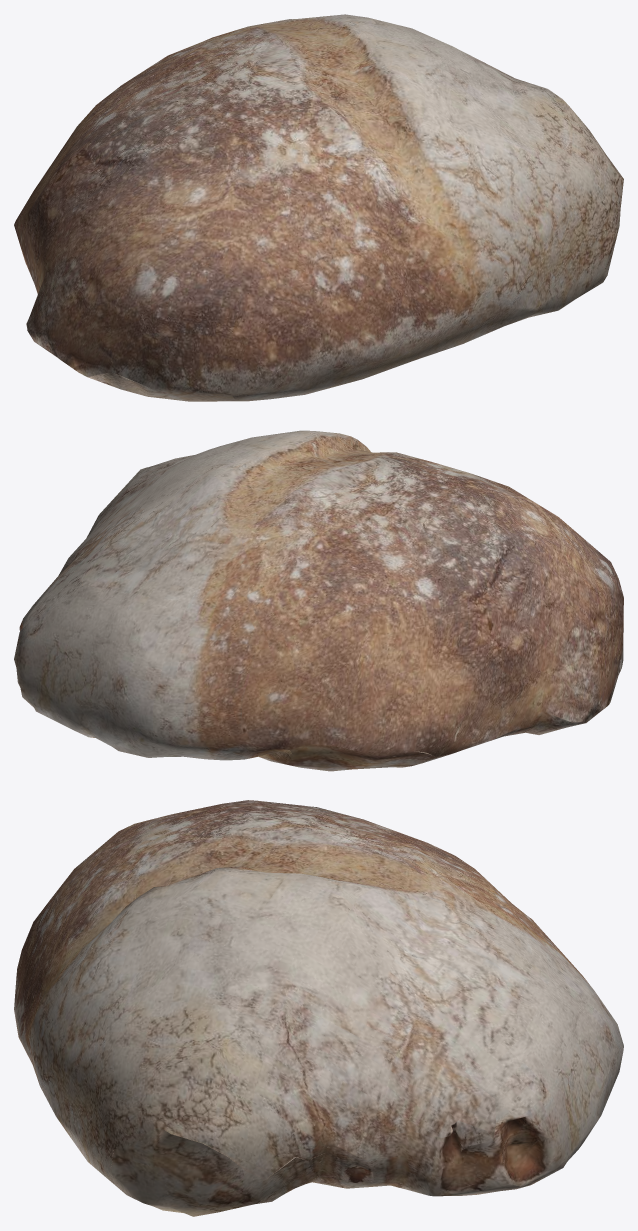
The model's file is pane.fbx.
3 views of the same model, one above another, from view 1: azimuth 30°, elevation 25°; view 2: azimuth 150°, elevation 25°; view 3: azimuth 270°, elevation 25° (orthographic). The views are drawn at different scales.
Visible parts, largest first — view 1: Object_2; view 2: Object_2; view 3: Object_2.
Part boxes in pixels (<box>): Object_2: <box>14,14,623,401</box>; Object_2: <box>14,430,623,771</box>; Object_2: <box>14,800,623,1216</box>.
Size of the model in its own units: 408 by 173 by 369.
Materials: 1 (1 with a texture image).
